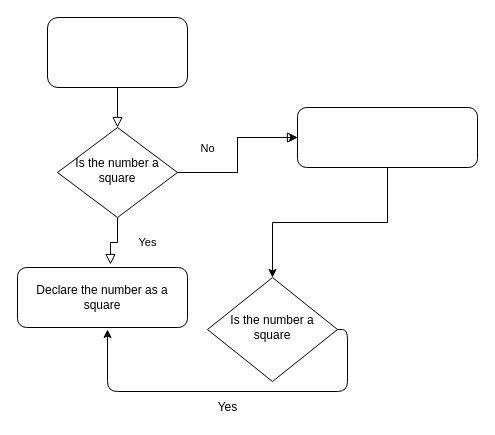
Some shapes in this 495 by 435 pixel diagram are drawn without their labels. Here are the shapes that lost their labels. From the top down, the centre of each, then its label:
the point at 117,52: Let's see if your number is a Square
the point at 387,137: rerun the program and give a number
